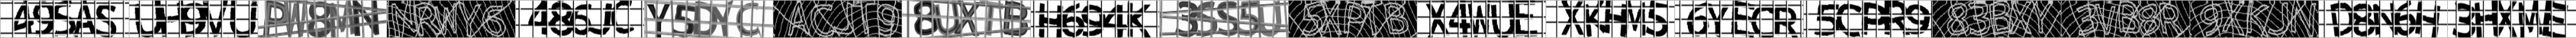3: (1176, 0, 1198, 38), (2454, 0, 2476, 38), (1968, 2, 1989, 38), (2075, 3, 2098, 36)
4: (10, 3, 34, 36), (527, 0, 549, 38), (1104, 3, 1127, 38), (1449, 3, 1470, 38)
5: (672, 2, 697, 38), (1299, 2, 1324, 38), (1239, 0, 1260, 38), (53, 2, 76, 36), (1646, 0, 1667, 36), (1817, 3, 1838, 38)
6: (1686, 2, 1710, 36), (2395, 0, 2417, 38), (1063, 0, 1083, 38), (572, 2, 591, 38), (483, 5, 504, 38)
8: (912, 0, 938, 38), (1945, 2, 1970, 38), (2351, 2, 2374, 38), (309, 0, 330, 38), (550, 2, 572, 38), (2137, 3, 2160, 35)
9: (1907, 2, 1932, 38), (2198, 3, 2224, 36), (182, 2, 205, 38), (877, 2, 900, 38), (1083, 2, 1104, 38), (33, 2, 54, 36)
a: (789, 0, 810, 38), (76, 0, 95, 36)
b: (1004, 2, 1028, 38), (1383, 2, 1410, 35), (1989, 2, 2012, 38), (2118, 2, 2139, 35)
c: (1837, 2, 1861, 38), (810, 3, 835, 38), (736, 2, 759, 38), (613, 0, 634, 38), (1751, 5, 1774, 38)
d: (695, 0, 718, 38), (2330, 0, 2353, 38)
e: (2543, 2, 2569, 38), (1515, 0, 1538, 38), (1732, 0, 1753, 38)
h: (2415, 0, 2441, 38), (1038, 2, 1063, 38), (159, 5, 186, 38), (1605, 0, 1626, 38), (2476, 0, 2497, 38)
j: (2267, 2, 2290, 38), (590, 3, 613, 38), (835, 3, 854, 38)
k: (1129, 2, 1155, 38), (2246, 0, 2269, 38), (1584, 2, 1605, 38)
m: (329, 0, 353, 38), (2518, 2, 2540, 38), (1628, 0, 1646, 38)
n: (352, 0, 379, 38), (389, 0, 416, 38), (2290, 2, 2315, 38), (2372, 0, 2395, 38)
p: (1861, 2, 1884, 38), (264, 0, 286, 38), (1344, 2, 1367, 35)
r: (414, 2, 439, 38), (1884, 0, 1907, 38), (2160, 2, 2183, 35), (1774, 8, 1799, 38)
s: (1198, 0, 1219, 38), (1217, 2, 1239, 38), (95, 3, 117, 38)
t: (981, 0, 1004, 38), (853, 0, 876, 35), (1362, 0, 1383, 35)
u: (131, 2, 161, 38), (230, 0, 256, 38), (1490, 2, 1516, 38), (935, 2, 958, 38), (1260, 0, 1281, 38)
v: (202, 0, 227, 38), (2096, 2, 2116, 36)
w: (1469, 2, 1492, 38), (286, 2, 307, 38), (435, 7, 458, 38)
x: (956, 2, 981, 38), (1426, 3, 1451, 36), (1561, 0, 1582, 38), (2011, 2, 2034, 35), (2499, 0, 2517, 38), (1321, 0, 1341, 35), (2224, 0, 2244, 33)
y: (646, 2, 670, 38), (1707, 3, 1730, 38), (460, 2, 480, 38), (2032, 0, 2054, 33), (718, 0, 734, 38)
